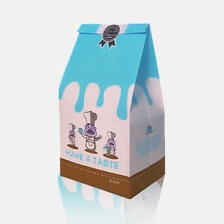snack: (42, 13, 172, 204)
